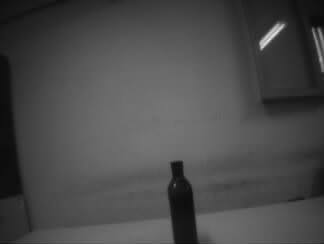Bottle: (166, 161, 197, 244)
